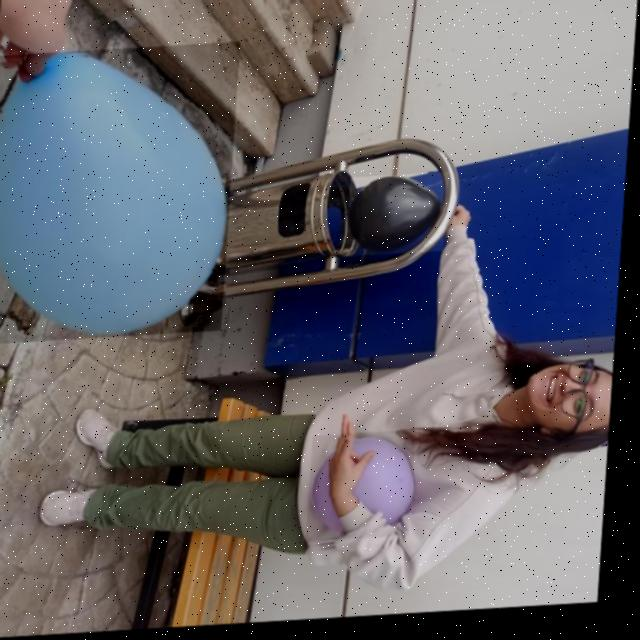balloon: (0, 45, 240, 345), (313, 435, 421, 546), (348, 178, 451, 261)
